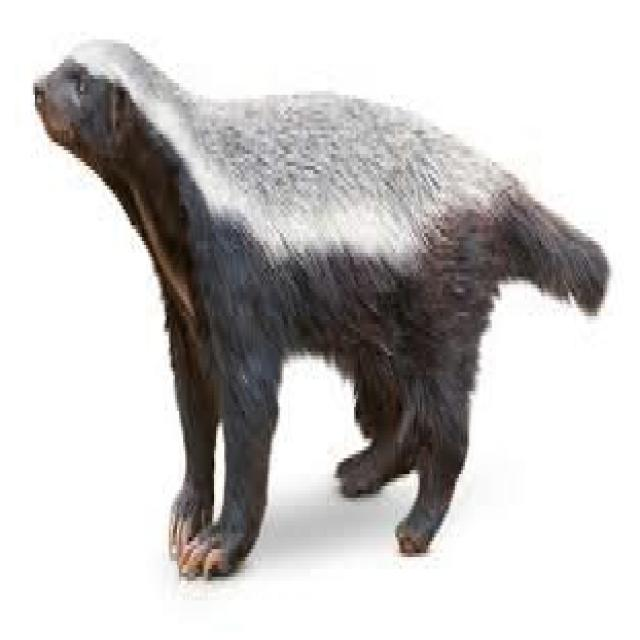badger: (35, 40, 609, 573)
